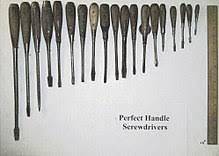screwdriver: (8, 2, 20, 140), (20, 1, 31, 116), (31, 1, 42, 111), (51, 0, 63, 87), (41, 0, 53, 86), (65, 0, 76, 84), (88, 1, 98, 81), (99, 2, 109, 82), (110, 4, 119, 79), (150, 2, 160, 67), (129, 3, 138, 75), (77, 3, 85, 82), (120, 4, 128, 77), (141, 4, 148, 74), (169, 5, 177, 52), (159, 3, 165, 51), (180, 3, 186, 49), (186, 4, 193, 43), (193, 4, 199, 35)
